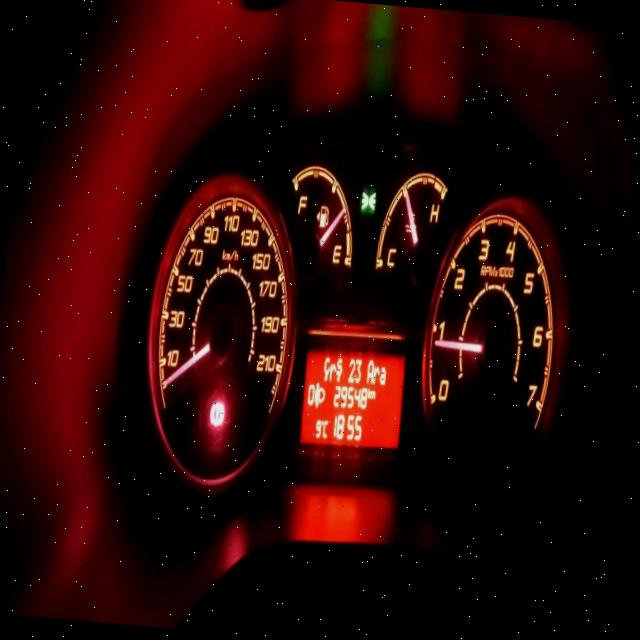odometer: (296, 342, 409, 450)
